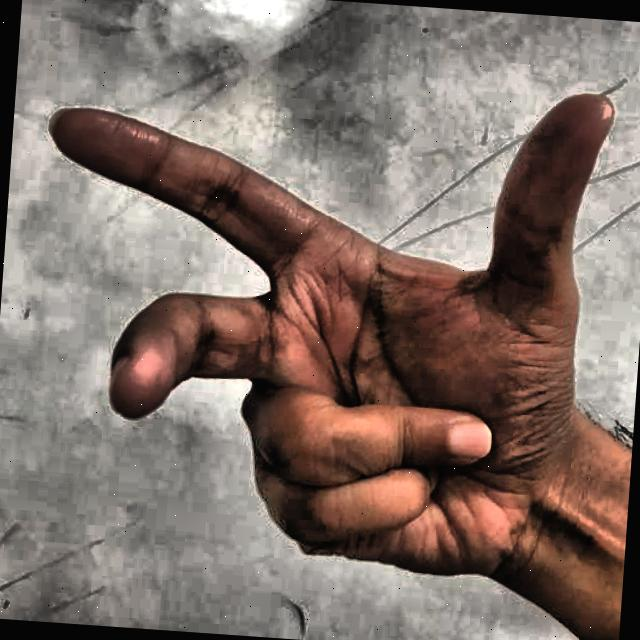Da: (6, 12, 634, 618)
